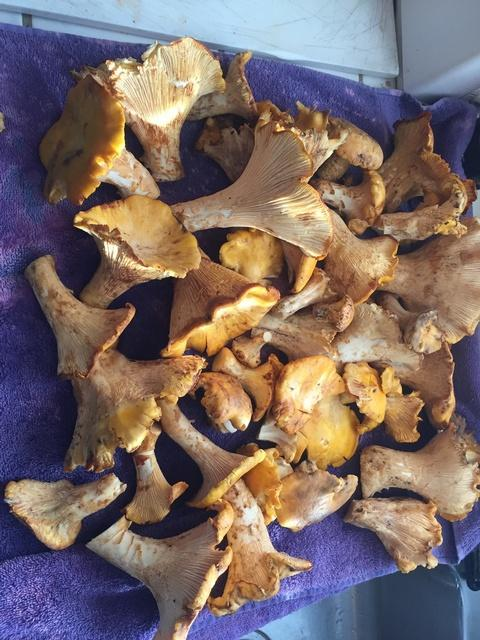edible_mushroom: (5, 36, 477, 636)
